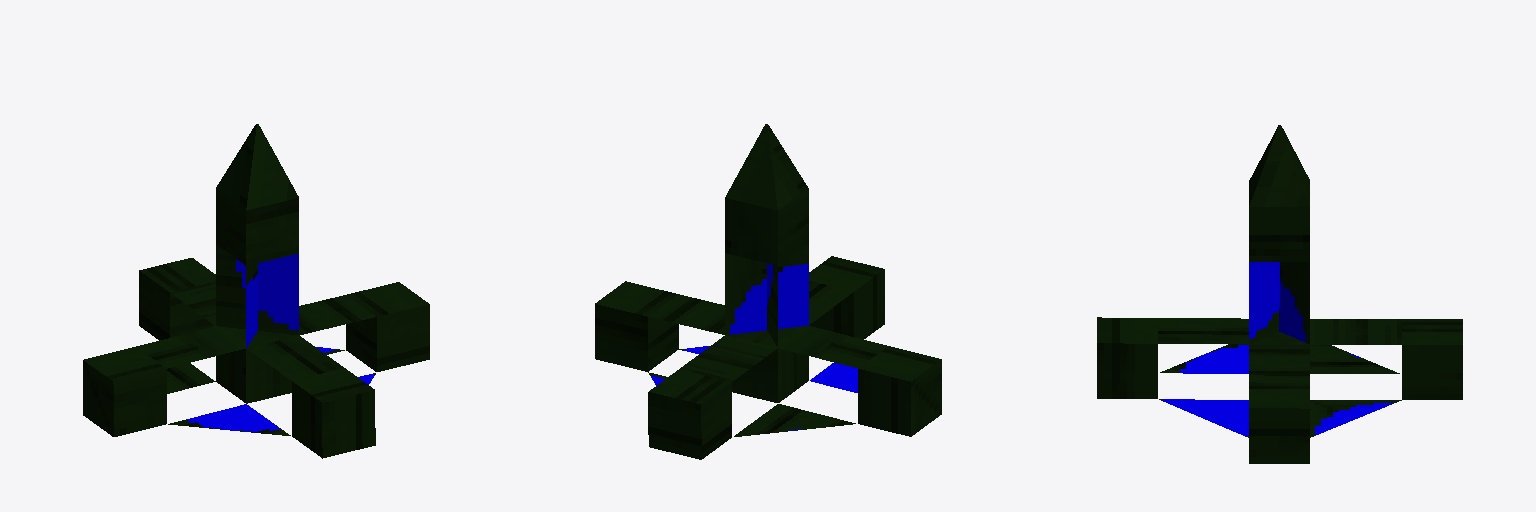
3 views of the same model, side by side, from view 1: azimuth 30°, elevation 25°; view 2: azimuth 150°, elevation 25°; view 3: azimuth 270°, elevation 25° (orthographic).
Visible parts, largest first — view 1: Cube; view 2: Cube; view 3: Cube.
Boxes of the visible parts, box(x1,y1,x2,y2) form: Cube: box(83, 124, 429, 458); Cube: box(595, 124, 941, 459); Cube: box(1097, 125, 1462, 463).
Bounding box in the file's own units: 11.93 × 9.49 × 11.98.
Materials: 1 (1 with a texture image).